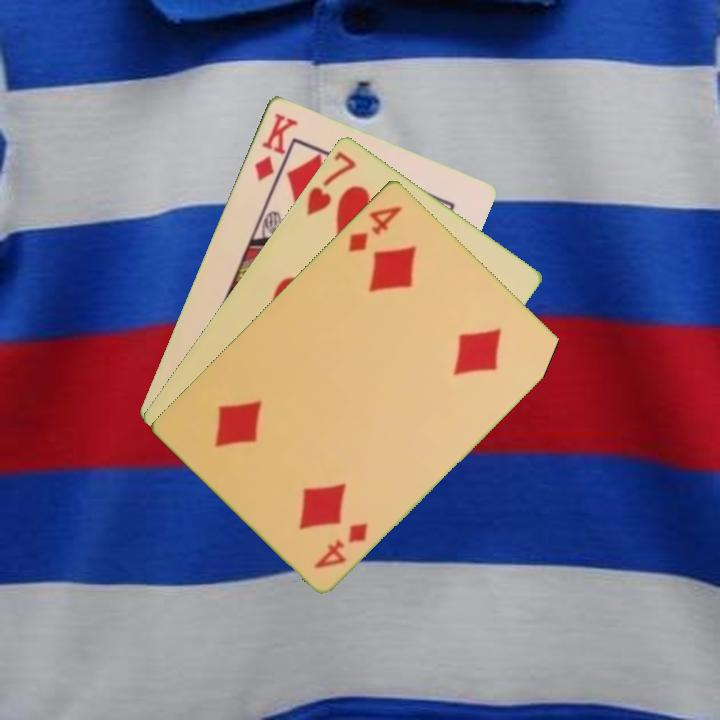4d: (344, 201, 405, 255), (310, 518, 371, 571)
7h: (302, 146, 359, 218)
Kd: (250, 109, 300, 184)
